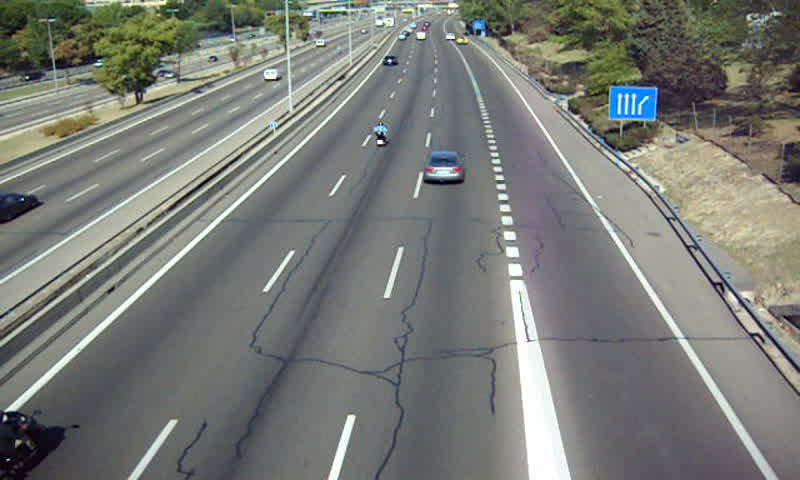car: (423, 152, 465, 183), (382, 55, 398, 68)
motorcycle: (374, 122, 388, 150)
